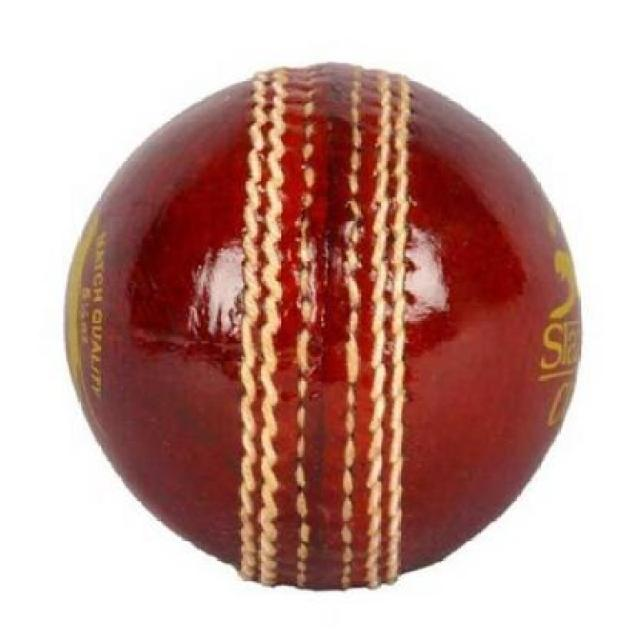ball: (23, 50, 640, 588)
